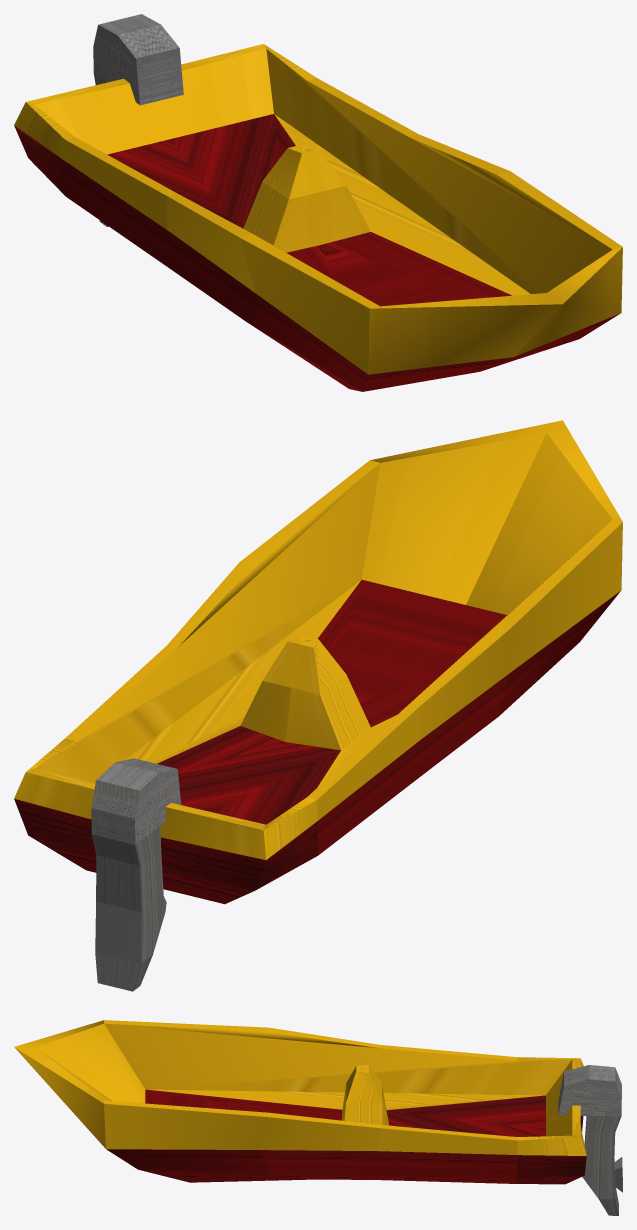
File: lancha2.fbx
3 views of the same model, one above another, from view 1: azimuth 30°, elevation 25°; view 2: azimuth 150°, elevation 25°; view 3: azimuth 270°, elevation 25° (orthographic). The views are drawn at different scales.
Parts seen in each view (by area): view 1: lancha_L2_0, lancha_L1_0, lancha_L4_0; view 2: lancha_L2_0, lancha_L1_0, lancha_L4_0; view 3: lancha_L2_0, lancha_L1_0, lancha_L4_0.
Part boxes in pixels (x1=…): lancha_L2_0: x1=14, y1=44, x2=622, y2=374; lancha_L1_0: x1=14, y1=114, x2=619, y2=391; lancha_L4_0: x1=93, y1=14, x2=183, y2=226; lancha_L2_0: x1=14, y1=420, x2=622, y2=859; lancha_L1_0: x1=14, y1=580, x2=620, y2=904; lancha_L4_0: x1=91, y1=758, x2=181, y2=991; lancha_L2_0: x1=14, y1=1020, x2=586, y2=1155; lancha_L1_0: x1=106, y1=1089, x2=586, y2=1184; lancha_L4_0: x1=558, y1=1065, x2=622, y2=1215.
Size of the model in its own units: 184 by 156 by 528.
Materials: 3 (3 with a texture image).
